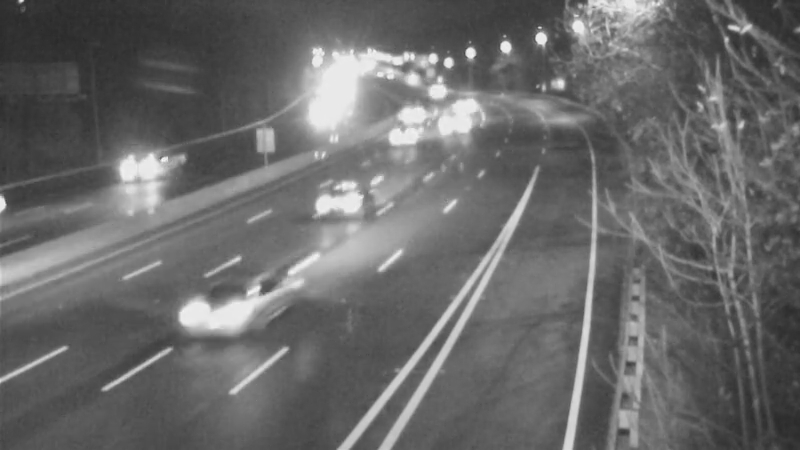vehicle: (160, 255, 270, 365), (301, 162, 381, 242), (113, 129, 193, 209), (435, 83, 485, 133), (391, 86, 441, 136), (434, 94, 484, 144), (375, 110, 425, 160)
